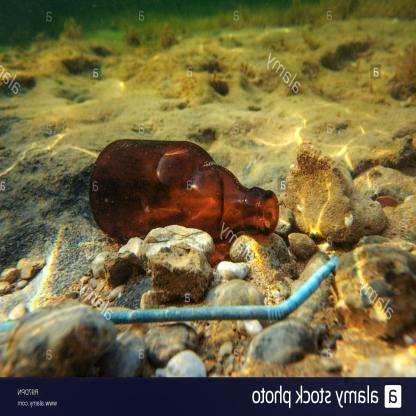gbottle: (90, 139, 282, 242)
plastic: (104, 256, 340, 328)
